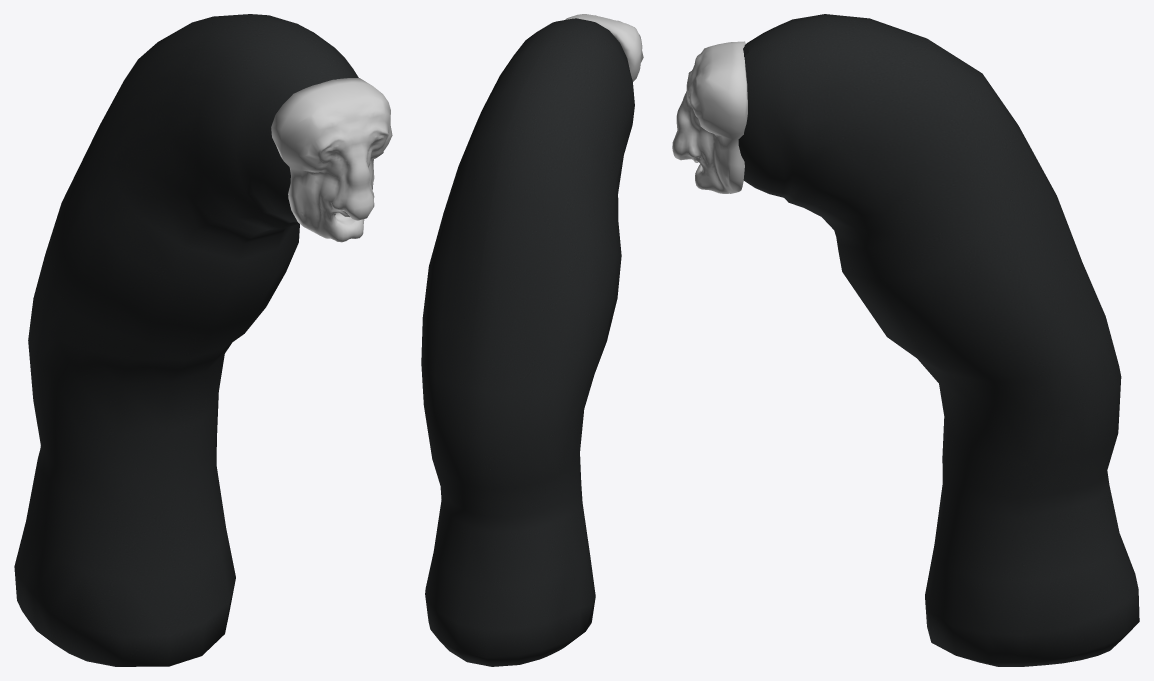
File: Entidad_F4.obj
3 renders of one model, left to right at view 1: azimuth 30°, elevation 25°; view 2: azimuth 150°, elevation 25°; view 3: azimuth 270°, elevation 25°, orthographic. The views are drawn at different scales.
Parts seen in each view (by area): view 1: Object_7, 0; view 2: Object_7, 0; view 3: Object_7, 0.
Part boxes in pixels (bbox=[...]): Object_7: bbox=[14, 14, 358, 666]; 0: bbox=[271, 78, 392, 242]; Object_7: bbox=[421, 18, 634, 666]; 0: bbox=[565, 14, 643, 81]; Object_7: bbox=[738, 14, 1139, 666]; 0: bbox=[672, 41, 747, 193].
Bounding box in the file's own units: 0.4818 × 1.49 × 0.9803.
